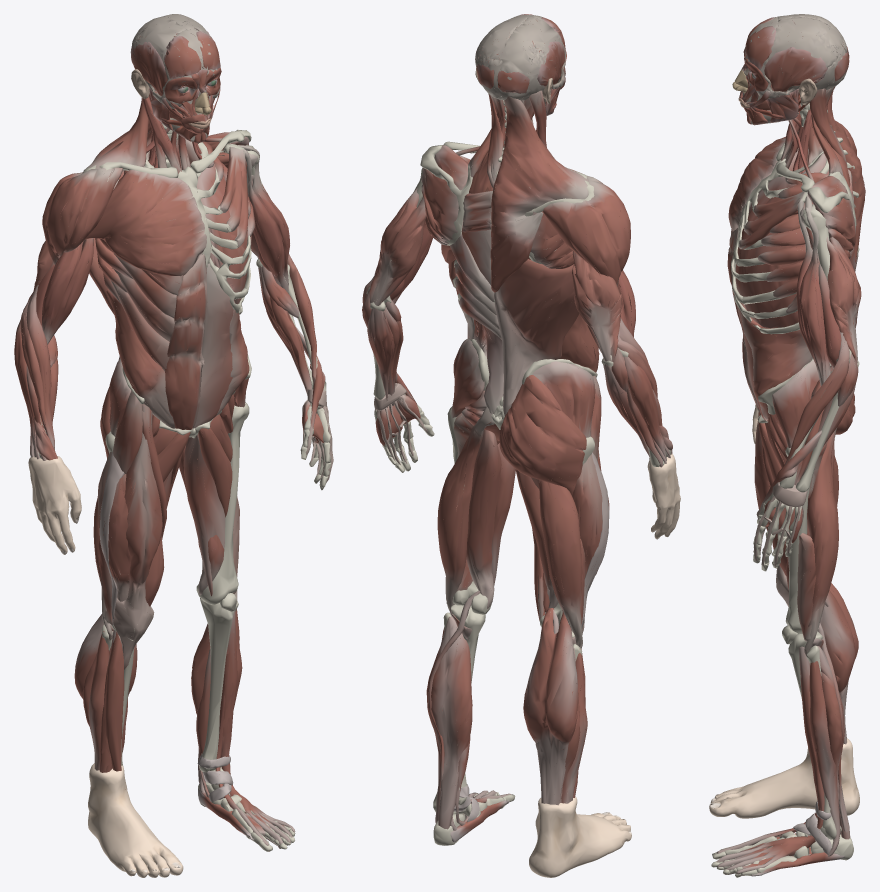
Rendered from ecorche.glb.
3 renders of one model, left to right at view 1: azimuth 30°, elevation 25°; view 2: azimuth 150°, elevation 25°; view 3: azimuth 270°, elevation 25°, orthographic.
Parts seen in each view (by area): view 1: Object_4, Object_5, Object_6, Object_9, Object_11, Object_7; view 2: Object_4, Object_5, Object_6, Object_9, Object_11, Object_7; view 3: Object_5, Object_4, Object_6, Object_9, Object_11, Object_7.
Part boxes in pixels (left/top/right/bottom): Object_4: left=20, top=14, right=322, bottom=837; Object_5: left=14, top=21, right=323, bottom=866; Object_6: left=21, top=16, right=333, bottom=851; Object_9: left=22, top=123, right=331, bottom=851; Object_11: left=28, top=456, right=183, bottom=877; Object_7: left=21, top=15, right=322, bottom=845; Object_4: left=362, top=15, right=662, bottom=816; Object_5: left=362, top=14, right=671, bottom=842; Object_6: left=362, top=15, right=672, bottom=836; Object_9: left=366, top=100, right=671, bottom=845; Object_11: left=529, top=453, right=680, bottom=877; Object_7: left=362, top=15, right=641, bottom=820; Object_5: left=716, top=17, right=865, bottom=876; Object_4: left=725, top=14, right=865, bottom=870; Object_6: left=716, top=15, right=863, bottom=875; Object_9: left=711, top=97, right=859, bottom=877; Object_11: left=709, top=404, right=859, bottom=818; Object_7: left=734, top=16, right=861, bottom=859.
Bounding box in the file's own units: 0.0101 × 0.0269 × 0.00465.
